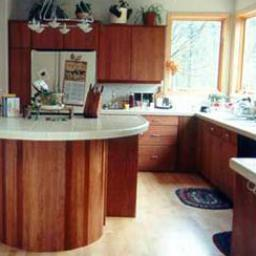Electrodomestico: (34, 53, 92, 110)
